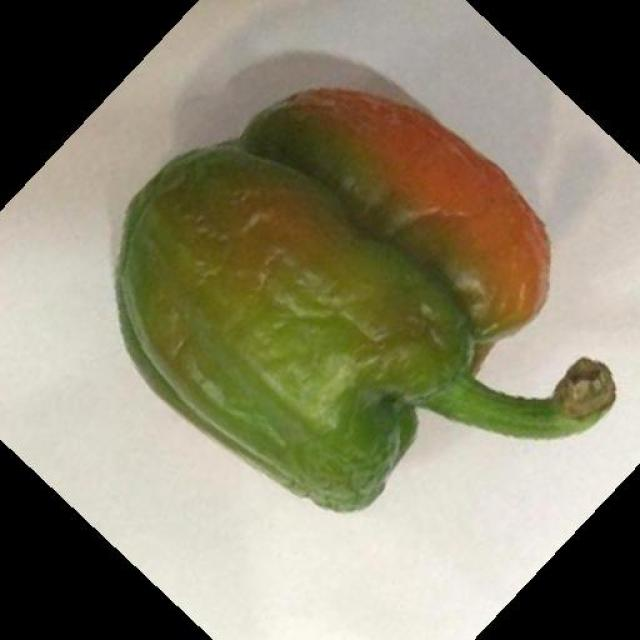Stale_Capsicum: (125, 87, 620, 484)
